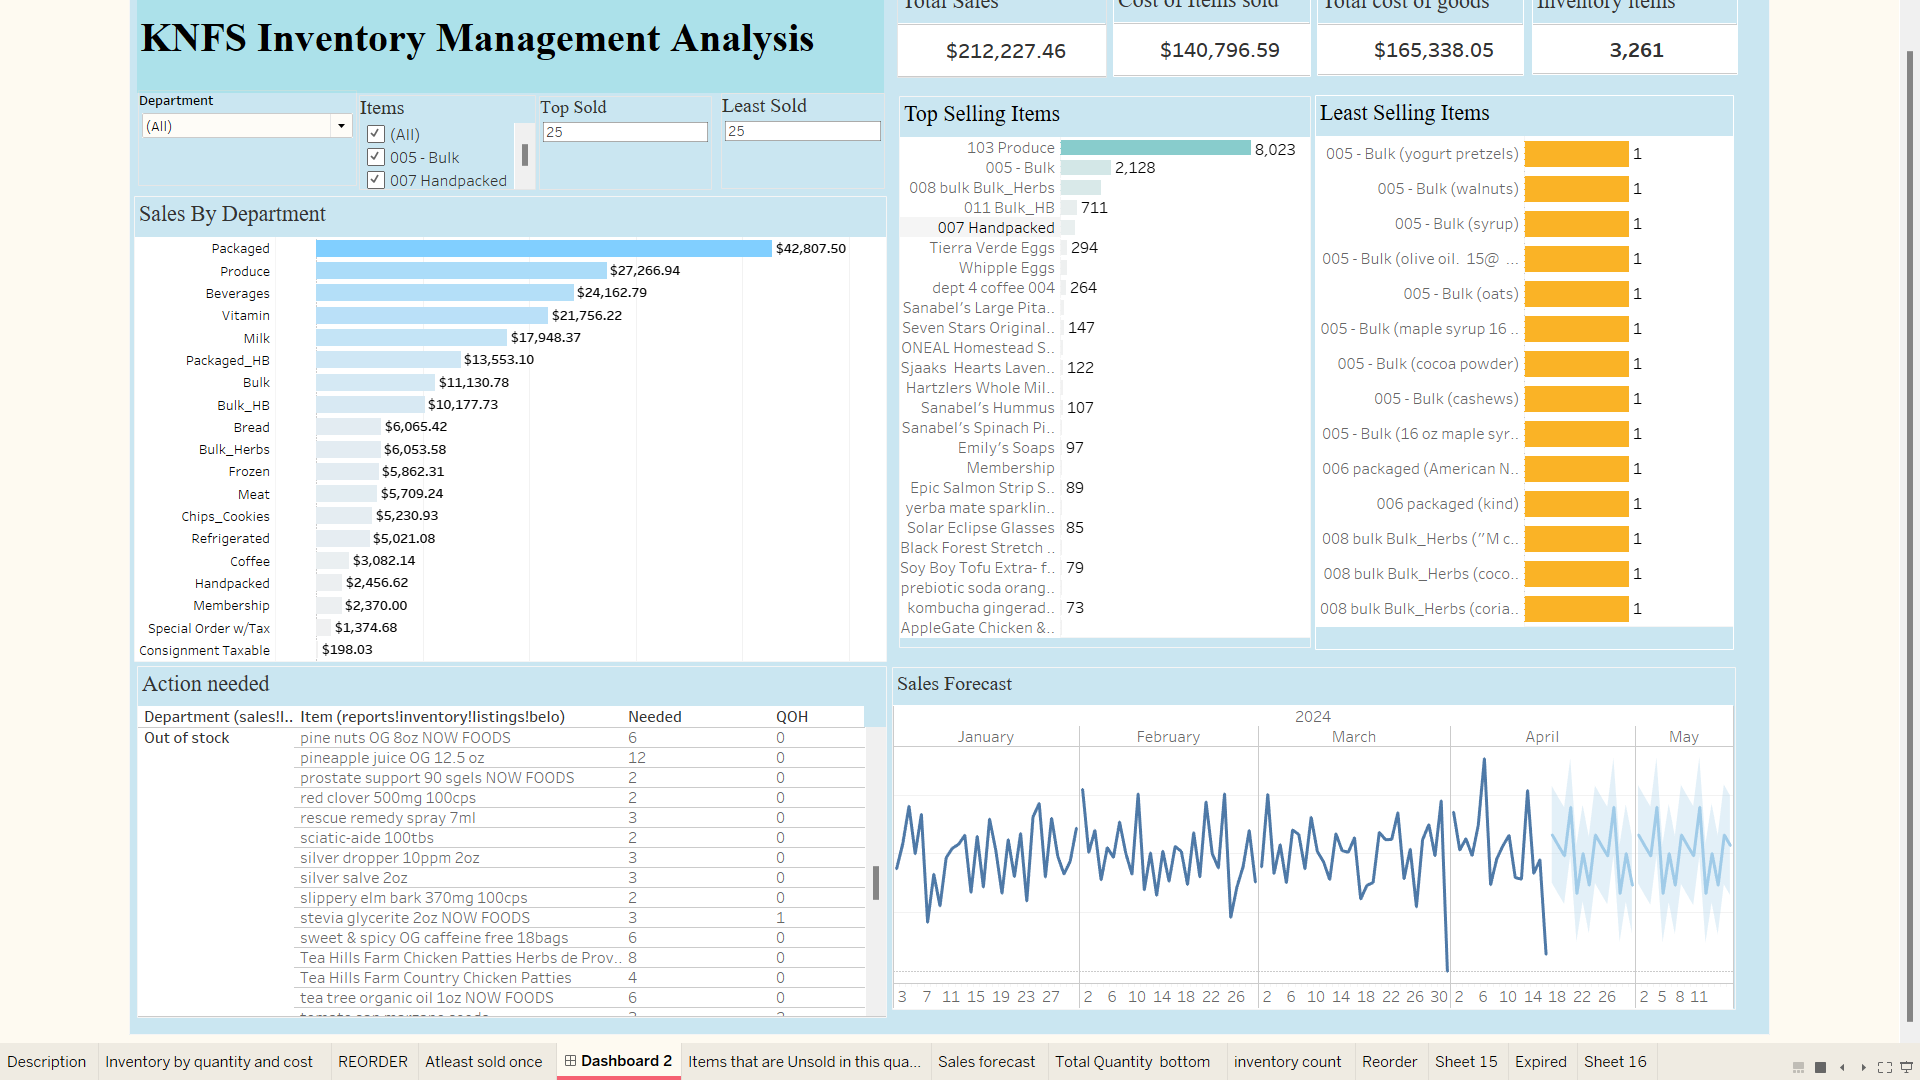

The page's visual inventory and layout, read from the dashboard file:
{"tool":"tableau","page":{"name":"Dashboard 2","canvas":[1657,1075],"ordinal":0},"visuals":[{"type":"worksheet","title":"COGS","mark":"Polygon","rows":["Calculation_4455748894297243667"],"box":[992,14,198,95]},{"type":"title","box":[16,15,747,110]},{"type":"worksheet","title":"Total sales count","mark":"Polygon","rows":["Total"],"box":[776,15,210,95]},{"type":"worksheet","title":"Total cost of goods","mark":"Polygon","rows":["Calculation_1710523448191332355"],"box":[1196,15,207,93]},{"type":"worksheet","title":"inventory count","mark":"Polygon","rows":["Item"],"box":[1411,15,206,92]},{"type":"filter","title":"Total sales ","param":"[federated.1bsyxn60y4mf4n16ystoe034f79o].[none:Department (sales!listing!010124!","box":[17,122,219,96]},{"type":"parameter","param":"[Parameters].[TOP (copy)_4455748893580587015]","box":[600,125,164,96]},{"type":"filter","title":"Total Quantity top and bottom","param":"[federated.1bsyxn60y4mf4n16ystoe034f79o].[none:Description:nk]","box":[238,127,177,95]},{"type":"worksheet","title":"Total Quantity  bottom","mark":"Automatic","rows":["Description"],"cols":["Qty"],"box":[1194,127,419,555]},{"type":"parameter","param":"[Parameters].[Parameter 1]","box":[418,128,173,94]},{"type":"worksheet","title":"Total Quantity top and bottom","mark":"Automatic","rows":["Description"],"cols":["Qty"],"box":[778,128,412,552]},{"type":"worksheet","title":"Total sales ","mark":"Automatic","rows":["Department (sales!listing!010124!to!041624)"],"cols":["Total"],"box":[13,228,753,466]},{"type":"worksheet","title":"Reorder","mark":"Polygon","rows":["Department (sales!listing!010124!to!041624)","Item (reports!inventory!listings!belo)","Needed","QOH"],"box":[16,698,750,352]},{"type":"worksheet","title":"Sales forecast","mark":"Automatic","rows":["Total"],"cols":["Date","Date","Date"],"box":[771,699,844,343]}]}

Visuals, with their boxes in screenshot pixels (x1, y1, x2, y2):
"COGS" worksheet (Polygon marks): <region>1288, 34, 1484, 128</region>
title: <region>321, 35, 1061, 144</region>
"Total sales count" worksheet (Polygon marks): <region>1074, 35, 1282, 129</region>
"Total cost of goods" worksheet (Polygon marks): <region>1490, 35, 1695, 127</region>
"inventory count" worksheet (Polygon marks): <region>1703, 35, 1907, 126</region>
"Total sales " filter: <region>322, 141, 539, 236</region>
parameter: <region>899, 144, 1062, 239</region>
"Total Quantity top and bottom" filter: <region>541, 146, 716, 240</region>
"Total Quantity  bottom" worksheet: <region>1488, 146, 1903, 696</region>
parameter: <region>719, 147, 891, 240</region>
"Total Quantity top and bottom" worksheet: <region>1076, 147, 1484, 694</region>
"Total sales " worksheet: <region>318, 246, 1064, 708</region>
"Reorder" worksheet (Polygon marks): <region>321, 712, 1064, 1060</region>
"Sales forecast" worksheet: <region>1069, 713, 1905, 1052</region>
